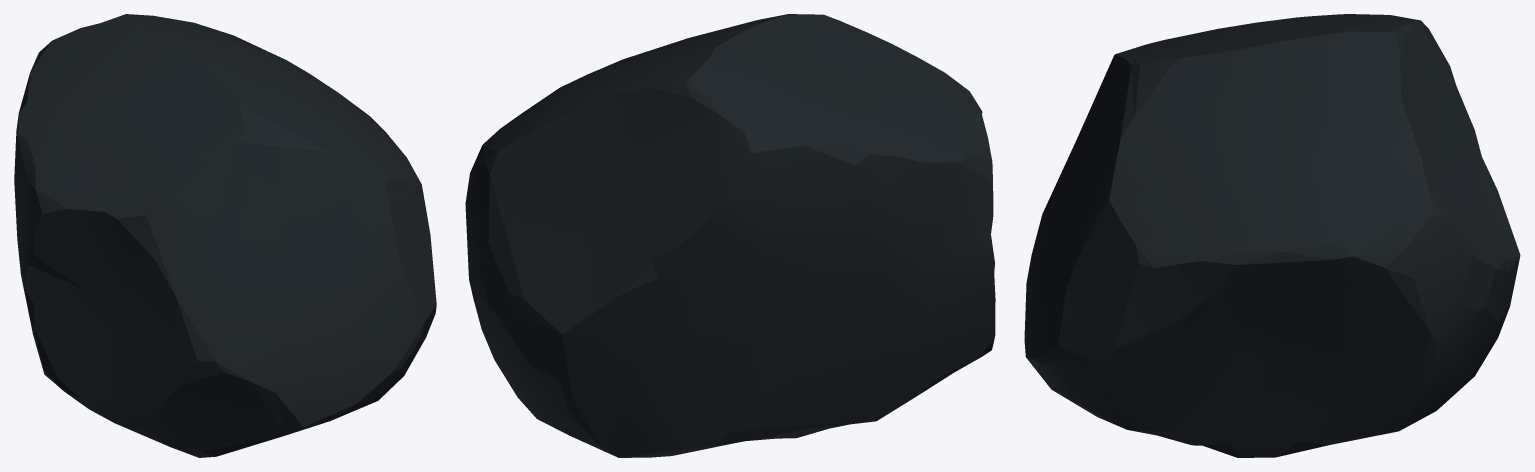
File: Asteroid_m_13.FBX
3 renders of one model, left to right at view 1: azimuth 30°, elevation 25°; view 2: azimuth 150°, elevation 25°; view 3: azimuth 270°, elevation 25°, orthographic. The views are drawn at different scales.
Parts seen in each view (by area): view 1: Asteroid_m_13; view 2: Asteroid_m_13; view 3: Asteroid_m_13.
Boxes of the visible parts, box(x1,y1,x2,y2) form: Asteroid_m_13: box(14, 14, 436, 457); Asteroid_m_13: box(465, 14, 995, 457); Asteroid_m_13: box(1024, 14, 1520, 457).
Size of the model in its own units: 864 by 782 by 918.
